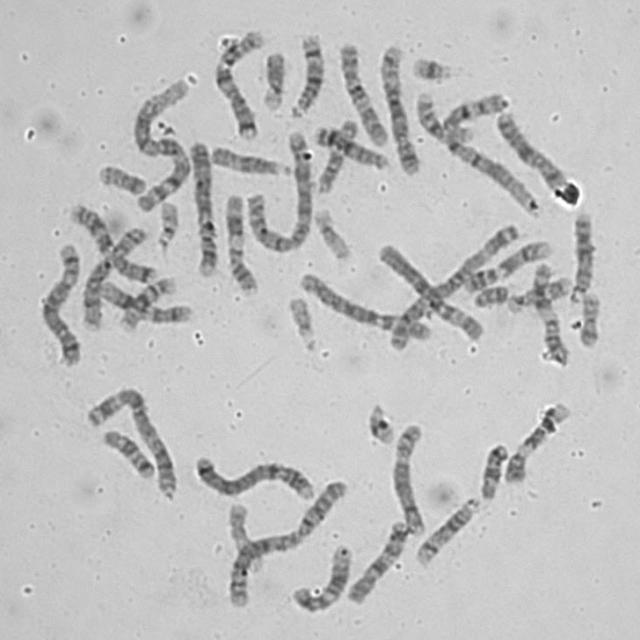A1: (412, 85, 542, 218), (126, 72, 193, 215)
A2: (222, 472, 351, 610), (241, 123, 315, 255)
A3: (380, 216, 523, 351), (81, 380, 180, 501)
B4: (188, 448, 317, 502), (184, 133, 219, 280)
B5: (374, 38, 423, 176), (36, 236, 84, 369)
C10: (341, 514, 411, 606), (334, 36, 391, 148)
C11: (528, 256, 570, 366), (219, 187, 260, 298)
C12: (286, 538, 355, 615), (92, 275, 194, 325)
C6: (373, 236, 488, 343), (293, 266, 433, 345)
C7: (64, 198, 159, 284), (208, 24, 268, 142)
C8: (75, 231, 145, 336), (387, 416, 429, 538)
C9: (499, 396, 574, 486), (460, 234, 554, 295)
D13: (308, 120, 391, 171), (564, 206, 597, 304)
D14: (409, 491, 482, 568), (286, 27, 326, 118)
D15: (308, 112, 359, 195), (205, 139, 293, 178)
E16: (114, 270, 180, 334), (411, 86, 478, 144)
E17: (222, 496, 266, 574), (502, 270, 575, 314)
E18: (98, 423, 158, 481), (474, 437, 510, 501)
F19: (308, 201, 354, 262), (258, 52, 294, 116)
F20: (92, 157, 147, 197), (574, 285, 603, 349)
G21: (362, 397, 398, 446), (406, 50, 456, 84)
G22: (282, 289, 318, 352), (150, 194, 181, 250)
X: (490, 105, 570, 191)
Y: (468, 278, 512, 309)
